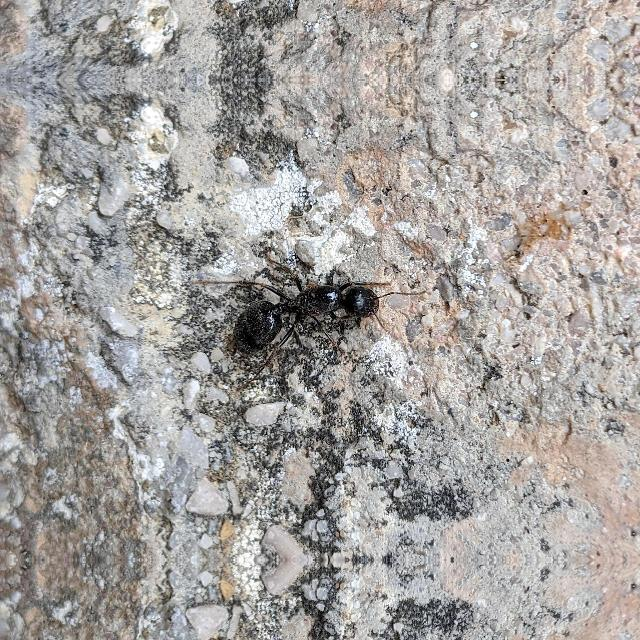Messor: (224, 265, 388, 361)
